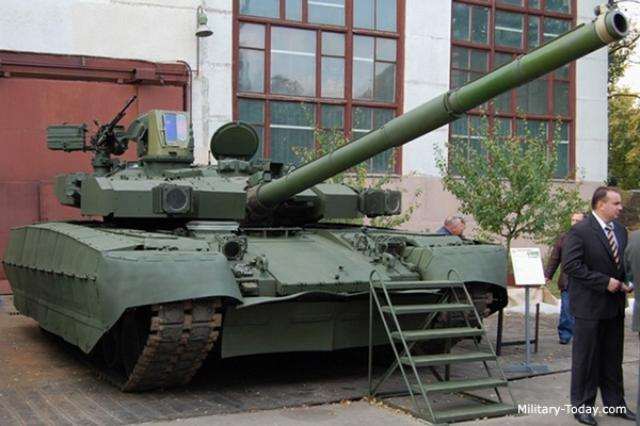other: (565, 189, 631, 417)
tank: (14, 137, 502, 379)
